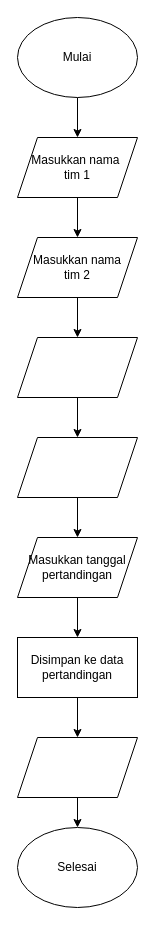
Image size: 155x925. Some labels were removed from this diagram. The shapes that lost their labels are listed below. From the top down, each one's box as (x1, y1, x2, y2) in pixels, then its label:
(16, 336, 138, 398): Masukkan skor tiim 1
(16, 436, 138, 498): Masukkan skor tim 2
(16, 736, 138, 798): Tampilkan hasil pertandingan
